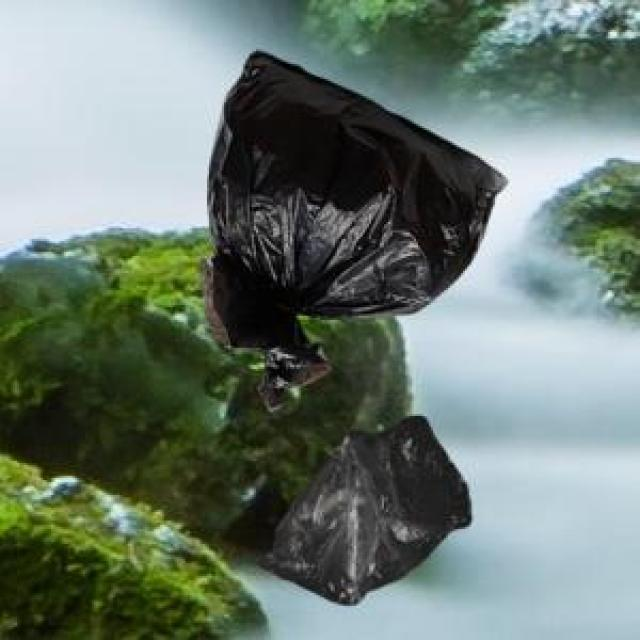miscellaneous trash: (198, 47, 504, 408)
